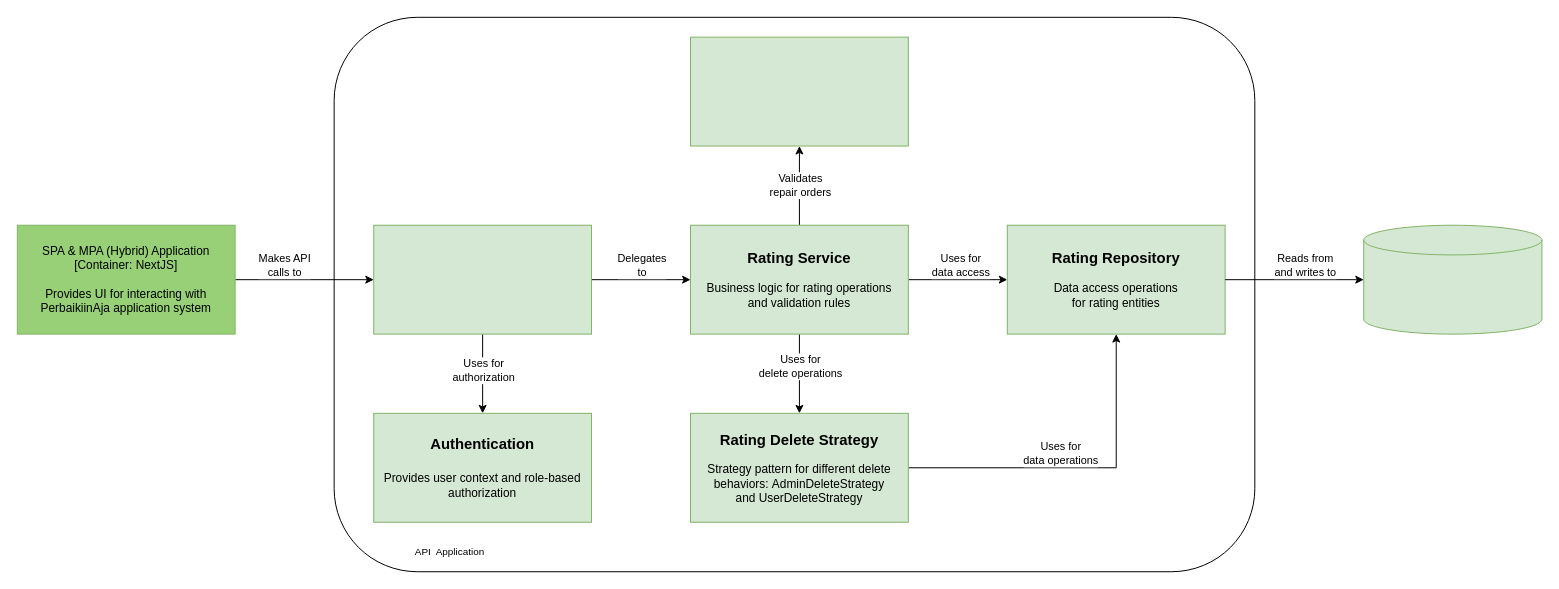
The diagram is 1559 pixels wide and 589 high, and some of its shapes have lost their labels. Each missing label, with the box of its shape:
Rating Controller Handles API requests for CRUD operations on ratings: (373, 224, 592, 334)
Rating Model: (1363, 224, 1542, 334)
RepairOrder Repository Validates repair order status for ratings: (690, 36, 908, 146)
